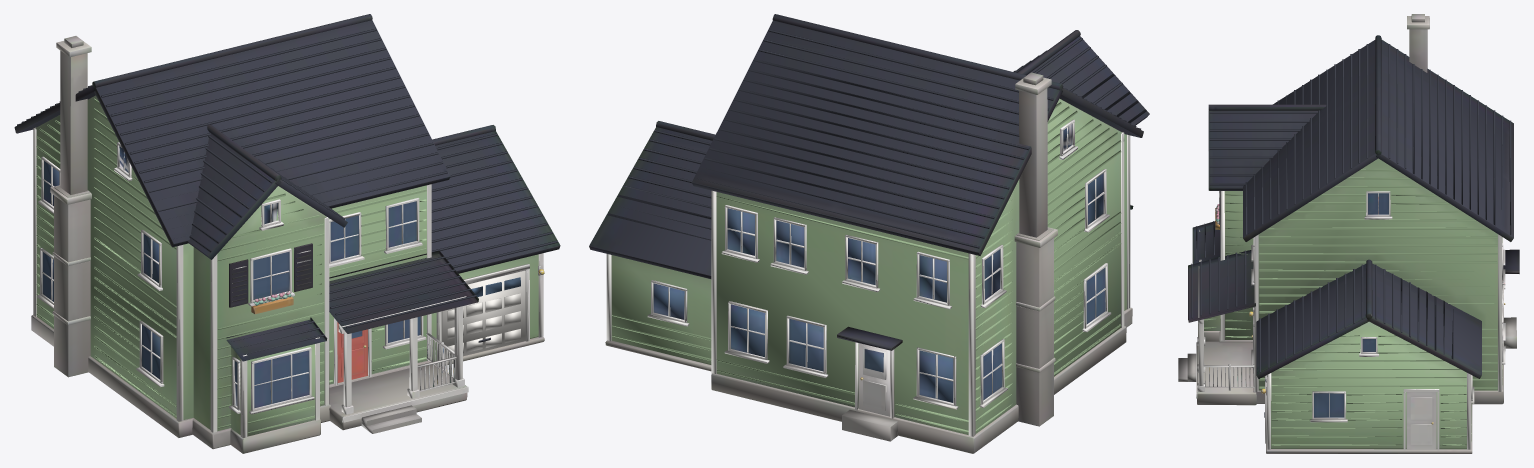
File: suburban-family-house.glb
The picture shows the model from 3 angles, left to right: view 1: azimuth 30°, elevation 25°; view 2: azimuth 150°, elevation 25°; view 3: azimuth 270°, elevation 25°; orthographic projection. The views are drawn at different scales.
Parts seen in each view (by area): view 1: suburban-family-house_body, suburban-family-house_trim, suburban-family-house_garage_door, suburban-family-house_siding; view 2: suburban-family-house_body, suburban-family-house_trim, suburban-family-house_garage_door, suburban-family-house_siding; view 3: suburban-family-house_body, suburban-family-house_garage_door, suburban-family-house_siding, suburban-family-house_trim.
Part boxes in pixels (box(x1,y1,x2,y2)): suburban-family-house_body: box(14, 14, 560, 453); suburban-family-house_trim: box(33, 127, 544, 437); suburban-family-house_garage_door: box(17, 28, 557, 358); suburban-family-house_siding: box(36, 98, 426, 433); suburban-family-house_body: box(589, 14, 1149, 453); suburban-family-house_trim: box(606, 119, 1130, 441); suburban-family-house_garage_door: box(607, 29, 1146, 248); suburban-family-house_siding: box(612, 102, 1121, 432); suburban-family-house_body: box(1188, 14, 1513, 453); suburban-family-house_garage_door: box(1191, 44, 1511, 417); suburban-family-house_siding: box(1204, 169, 1502, 445); suburban-family-house_trim: box(1178, 191, 1519, 450).
Size of the model in its own units: 12.97 by 10.03 by 11.09.
Materials: 6 (2 with a texture image).
